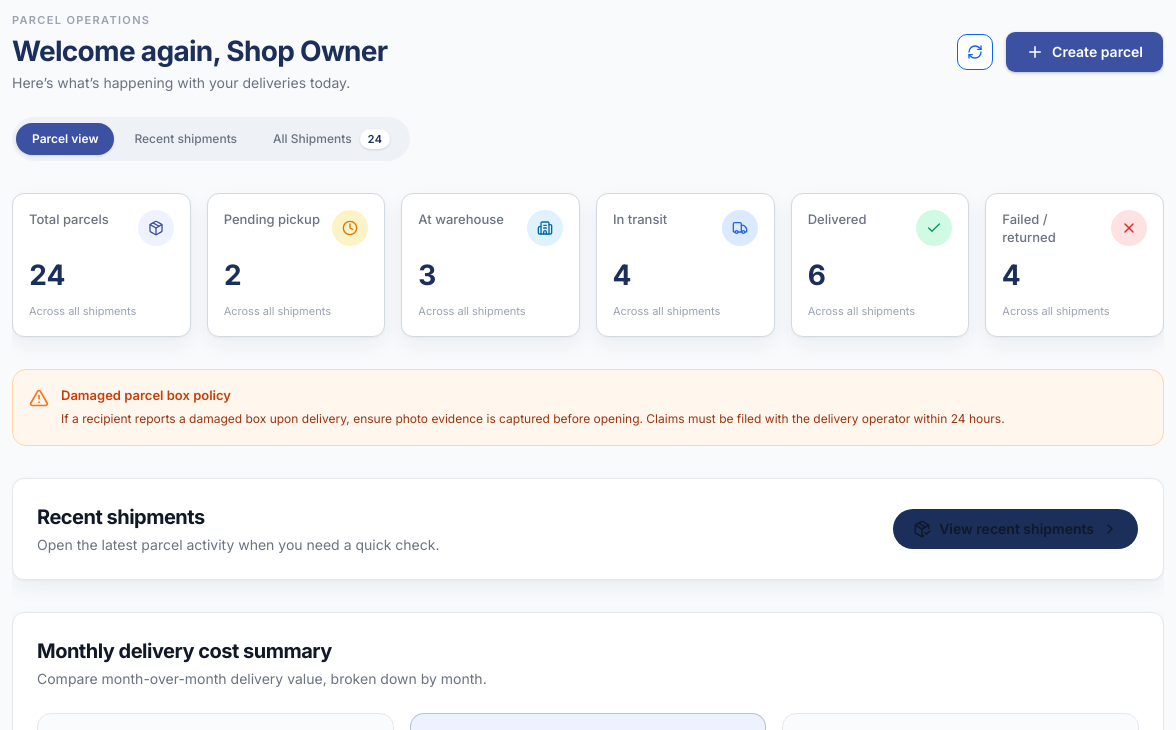
Test case: SME dashboard › filters recent parcels by order code, recipient or township
The width and height of the screenshot is (1176, 730).
Check: the heading "Welcome again, Shop Owner" is shown, box top-left (12, 32), bottom-right (387, 68)
Click the button "Recent shipments".
click(186, 138)  # box top-left (118, 122), bottom-right (253, 154)
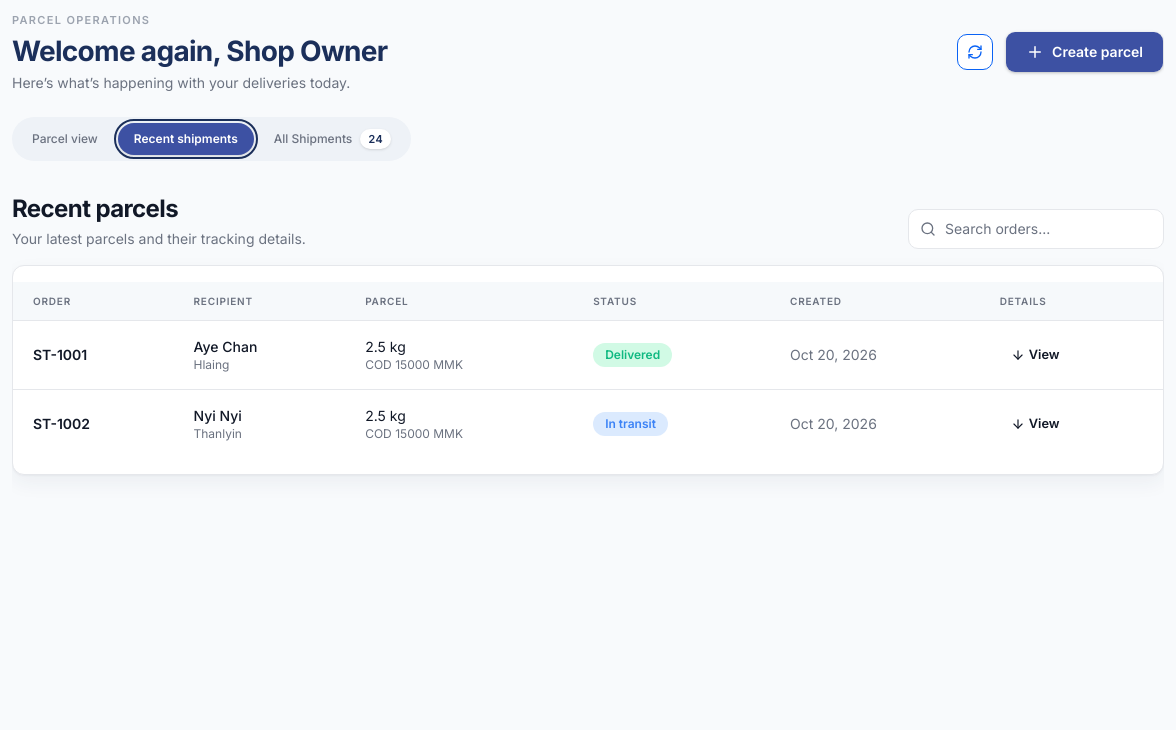
Check: the column heading "ST-1001" is shown, box top-left (13, 320), bottom-right (174, 389)
Type "thanlyin" into the search field named "Search parcels by order code, recipient or township".
click(1036, 228); type("thanlyin")  # box top-left (908, 208), bottom-right (1164, 248)
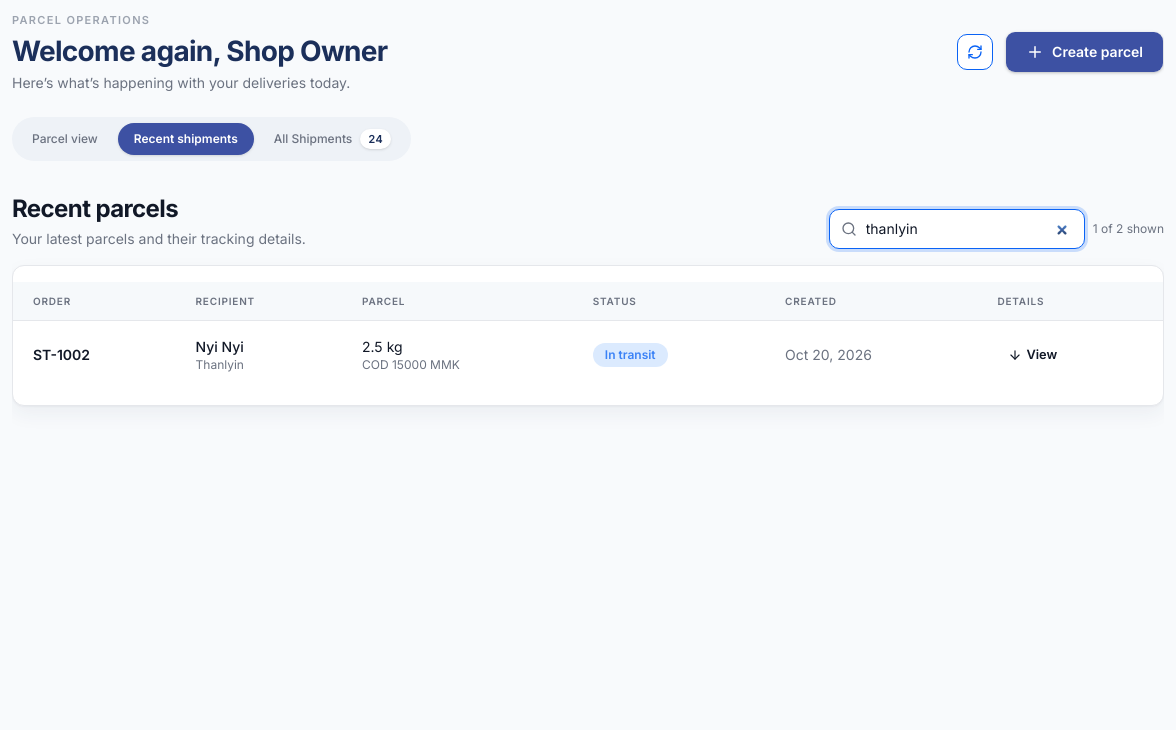
Check: the column heading "ST-1002" is shown, box top-left (13, 320), bottom-right (176, 388)
Check: the column heading "ST-1001" is gone
Check: the text "1 of 2 shown" is shown, box top-left (1093, 220), bottom-right (1164, 236)
